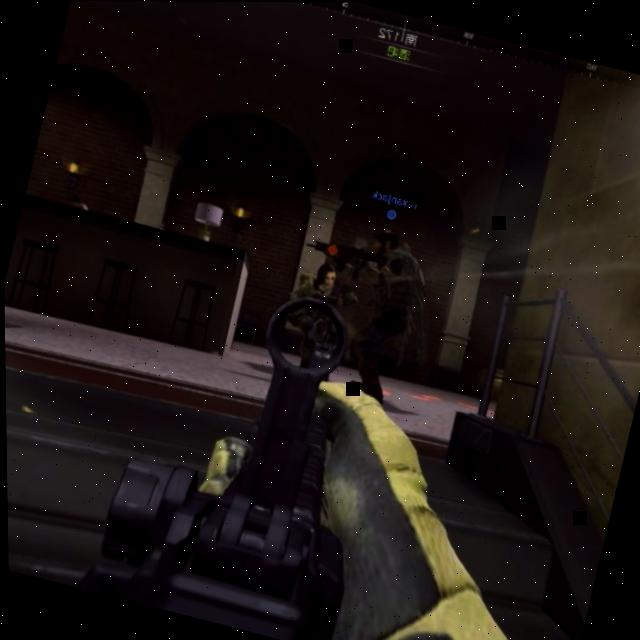MW2_body: (270, 237, 365, 375)
